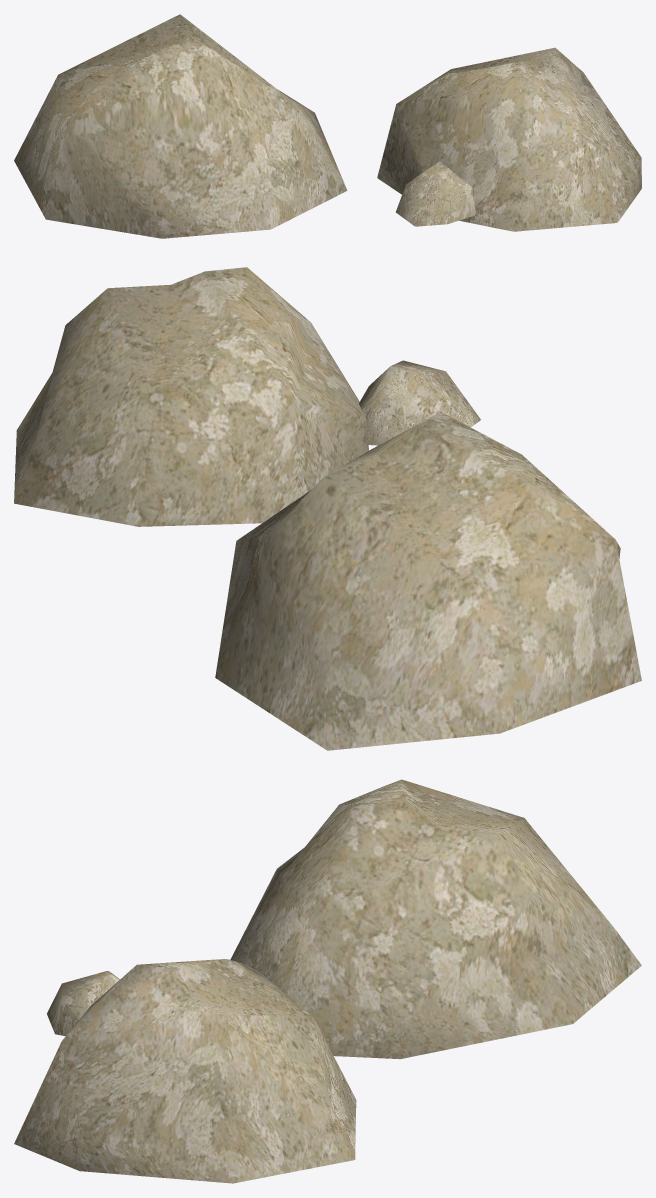
The model's file is rock_small_pile_a2_l0.fbx.
3 renders of one model, top to bottom at view 1: azimuth 30°, elevation 25°; view 2: azimuth 150°, elevation 25°; view 3: azimuth 270°, elevation 25°, orthographic. The views are drawn at different scales.
Parts seen in each view (by area): view 1: mesh_node; view 2: mesh_node; view 3: mesh_node.
Part boxes in pixels (bbox=[...]): mesh_node: bbox=[14, 14, 641, 238]; mesh_node: bbox=[14, 267, 641, 750]; mesh_node: bbox=[14, 779, 641, 1183].
Bounding box in the file's own units: 2.72 × 0.7756 × 2.37.
